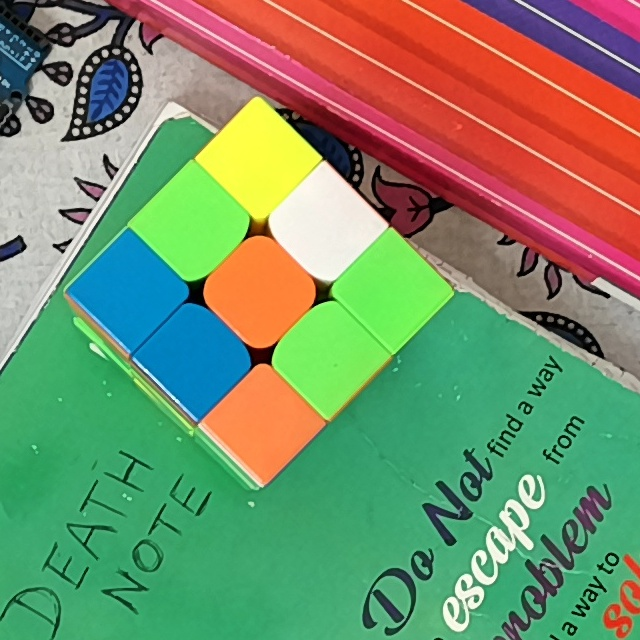tile: (160, 193, 222, 258), (360, 261, 421, 322), (230, 264, 292, 322), (297, 192, 356, 252), (227, 133, 288, 190), (164, 332, 226, 388), (100, 261, 161, 317), (294, 331, 357, 385), (236, 393, 292, 449)
